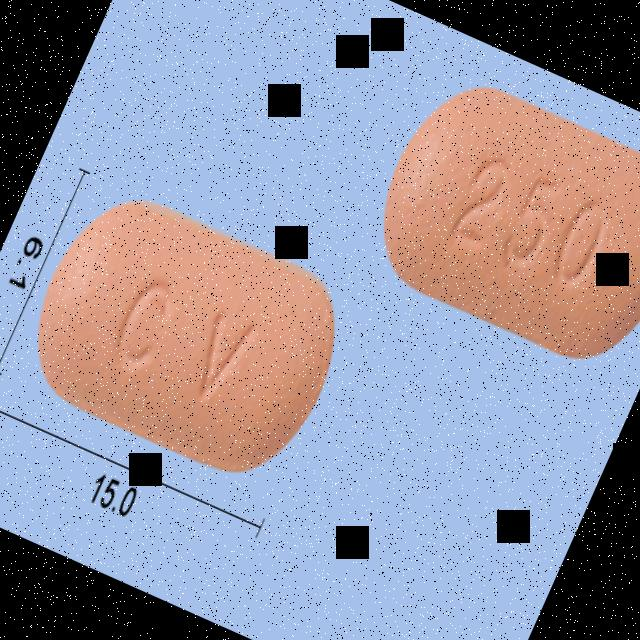Cravit - 500mg: (9, 177, 364, 496), (352, 61, 640, 382)
